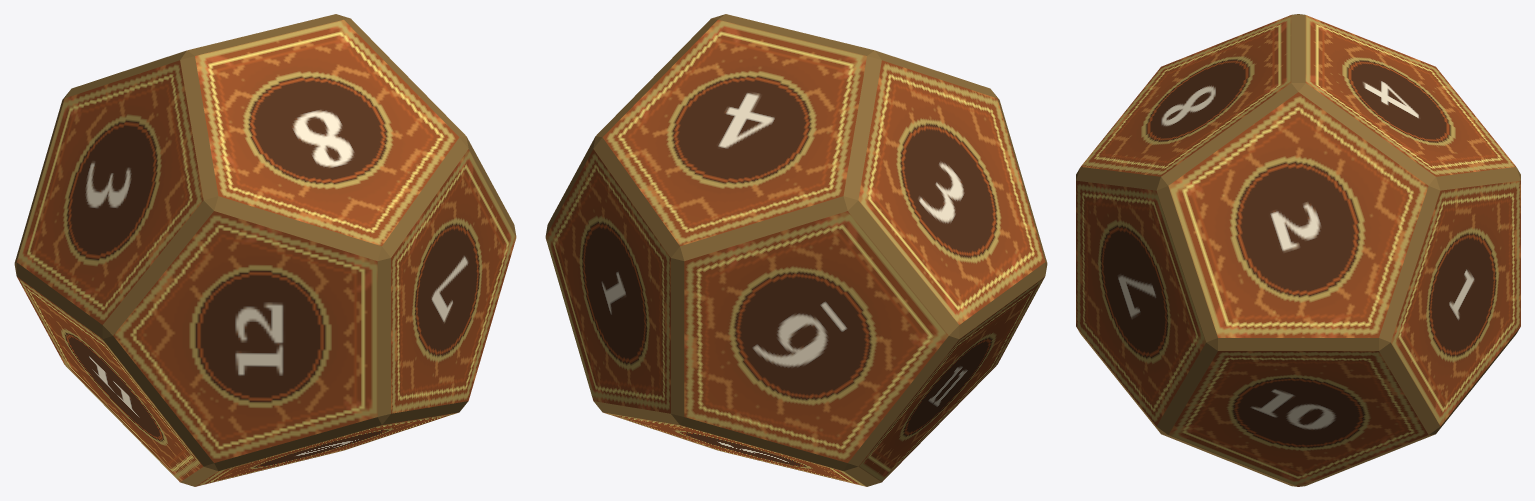
3 renders of one model, left to right at view 1: azimuth 30°, elevation 25°; view 2: azimuth 150°, elevation 25°; view 3: azimuth 270°, elevation 25°, orthographic. The views are drawn at different scales.
Bounding box in the file's own units: 165 × 165 × 165.
Materials: 1 (1 with a texture image).
